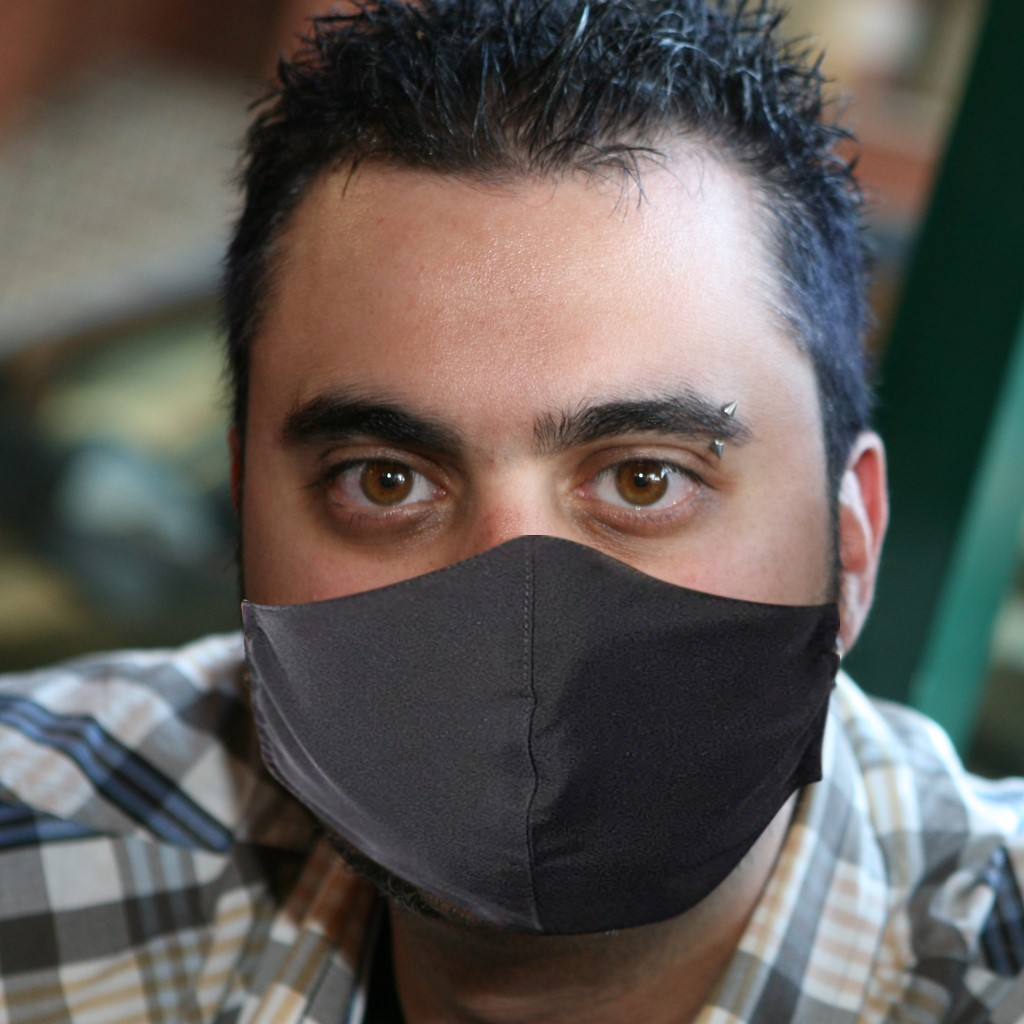con_mascara: (232, 147, 842, 921)
